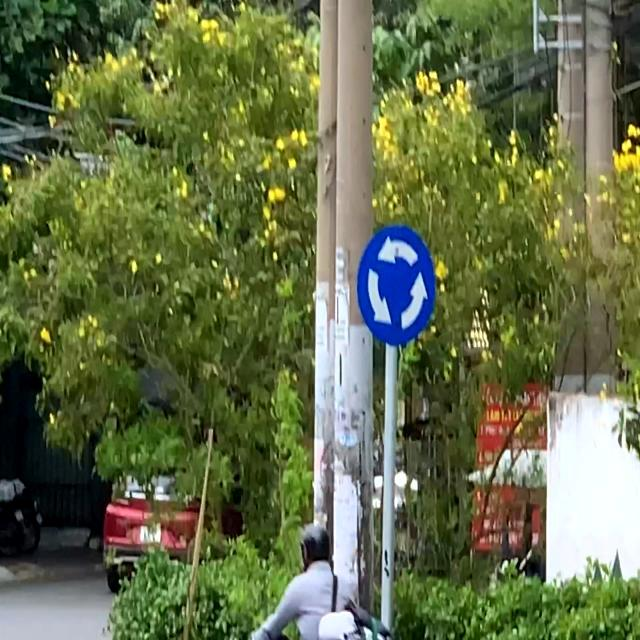Noi giao nhau chay theo vong xuyen: (355, 222, 437, 348)
